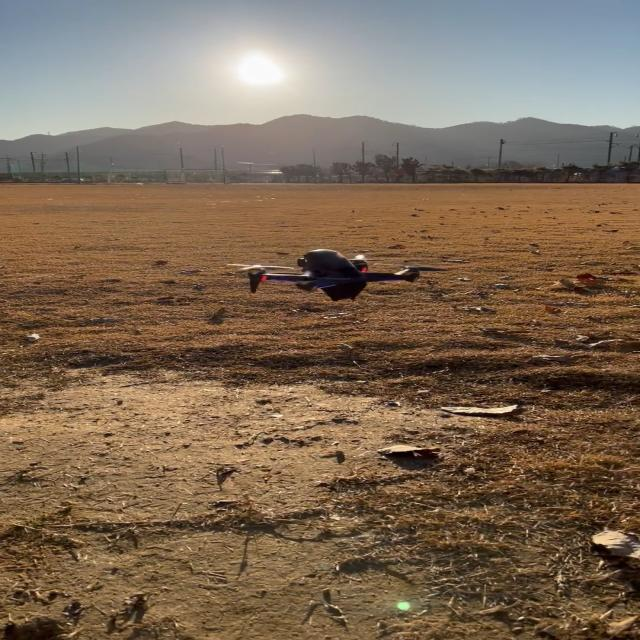drone: (225, 248, 446, 301)
